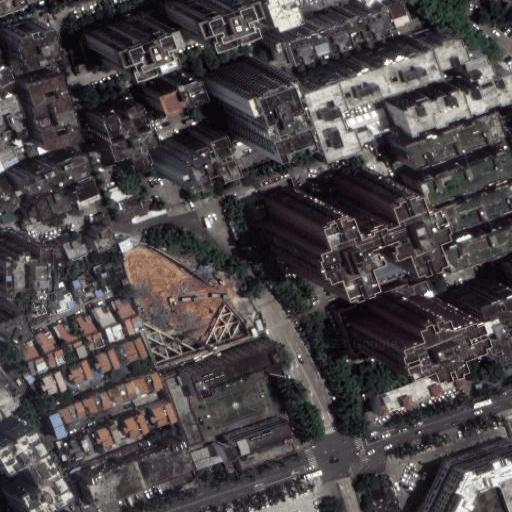building: (288, 33, 427, 144), (257, 165, 390, 272), (410, 438, 511, 512), (88, 443, 195, 506), (346, 292, 434, 358), (408, 113, 508, 170), (180, 336, 274, 394), (421, 149, 512, 206), (25, 73, 85, 153), (338, 281, 435, 330), (198, 56, 260, 132), (446, 277, 507, 349), (434, 184, 512, 236), (378, 369, 466, 414), (84, 97, 141, 166), (152, 117, 210, 179), (402, 88, 473, 138), (81, 11, 149, 63), (442, 226, 512, 275), (229, 407, 296, 456), (164, 374, 202, 445), (0, 13, 53, 58), (168, 0, 233, 33), (465, 73, 512, 117), (88, 439, 152, 469), (136, 70, 185, 104), (0, 233, 24, 299), (238, 441, 294, 469), (417, 21, 455, 55), (40, 148, 80, 180), (368, 476, 402, 512), (97, 259, 131, 294), (0, 94, 26, 137), (35, 193, 73, 222), (112, 194, 150, 222), (246, 0, 285, 27), (43, 231, 78, 257), (71, 274, 102, 303), (464, 57, 496, 85), (71, 179, 102, 207), (10, 160, 43, 186), (107, 181, 141, 205), (131, 371, 162, 397), (83, 392, 113, 417), (107, 382, 137, 407), (124, 413, 151, 439), (121, 338, 149, 363), (83, 222, 107, 251), (68, 434, 94, 460), (47, 287, 73, 313), (39, 372, 66, 397), (152, 403, 177, 428), (68, 360, 93, 385), (95, 348, 121, 372), (98, 303, 121, 329), (97, 425, 122, 448), (60, 402, 85, 425), (38, 330, 61, 355), (192, 451, 220, 471), (119, 295, 140, 321), (48, 413, 68, 440), (16, 299, 47, 316), (59, 321, 80, 346), (499, 260, 512, 300), (19, 339, 40, 362), (78, 314, 98, 338), (85, 332, 107, 352), (0, 148, 20, 170), (133, 392, 160, 408), (106, 323, 126, 343), (66, 340, 85, 359), (189, 445, 211, 461), (46, 349, 65, 367), (26, 357, 45, 375), (126, 316, 144, 335), (25, 143, 45, 159), (260, 354, 279, 370), (117, 237, 132, 253), (0, 137, 10, 154), (0, 304, 8, 320), (23, 372, 33, 384)
